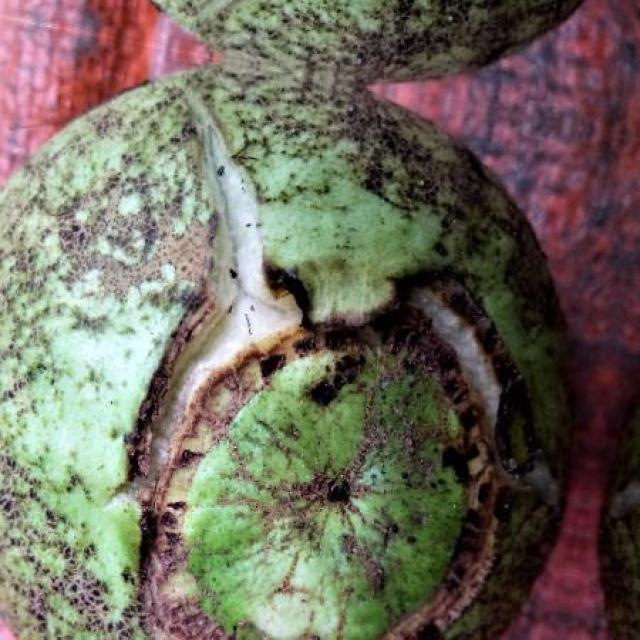Scab: (0, 0, 570, 640)
